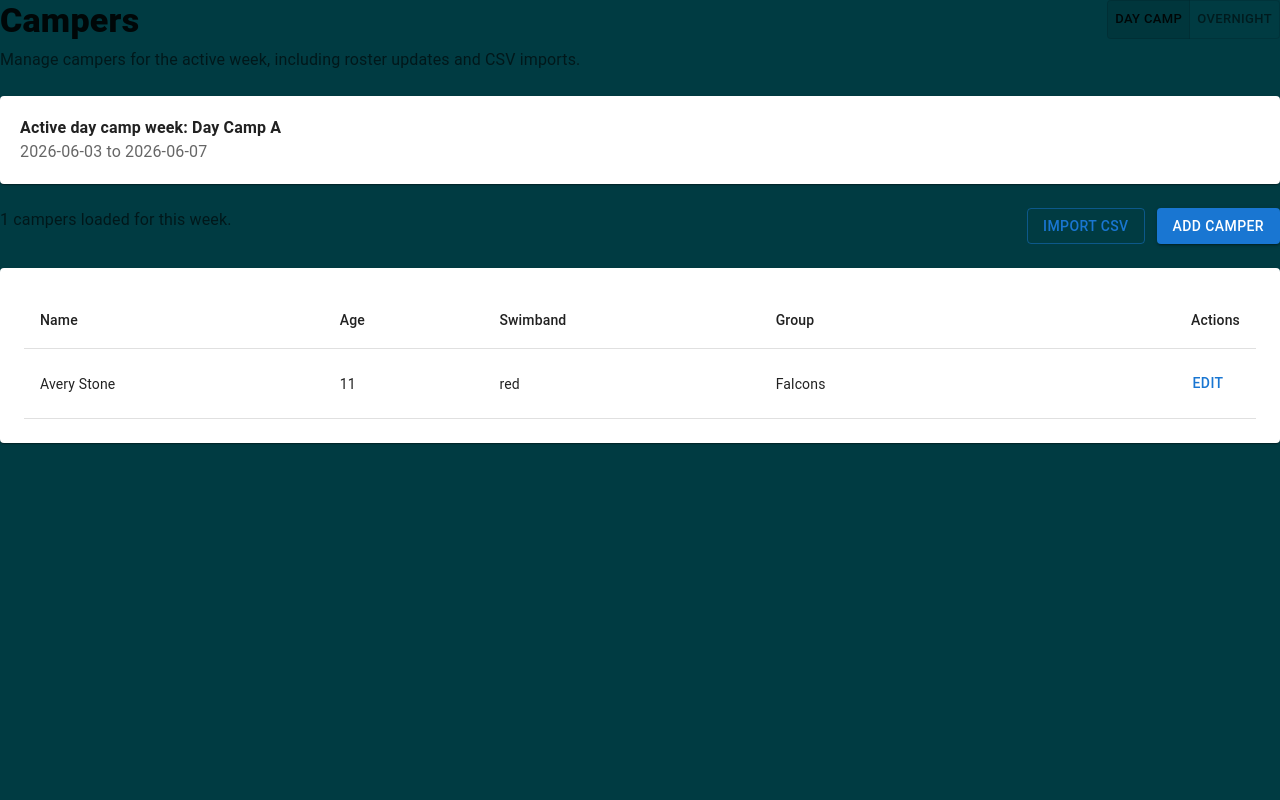
Test: CampersPage › submits the update camper flow
Expected: the text "Avery Stone" is shown, x1=40 y1=376 x2=115 y2=392
Click the button "Edit".
click(1208, 384)  # box x1=1176 y1=366 x2=1240 y2=402
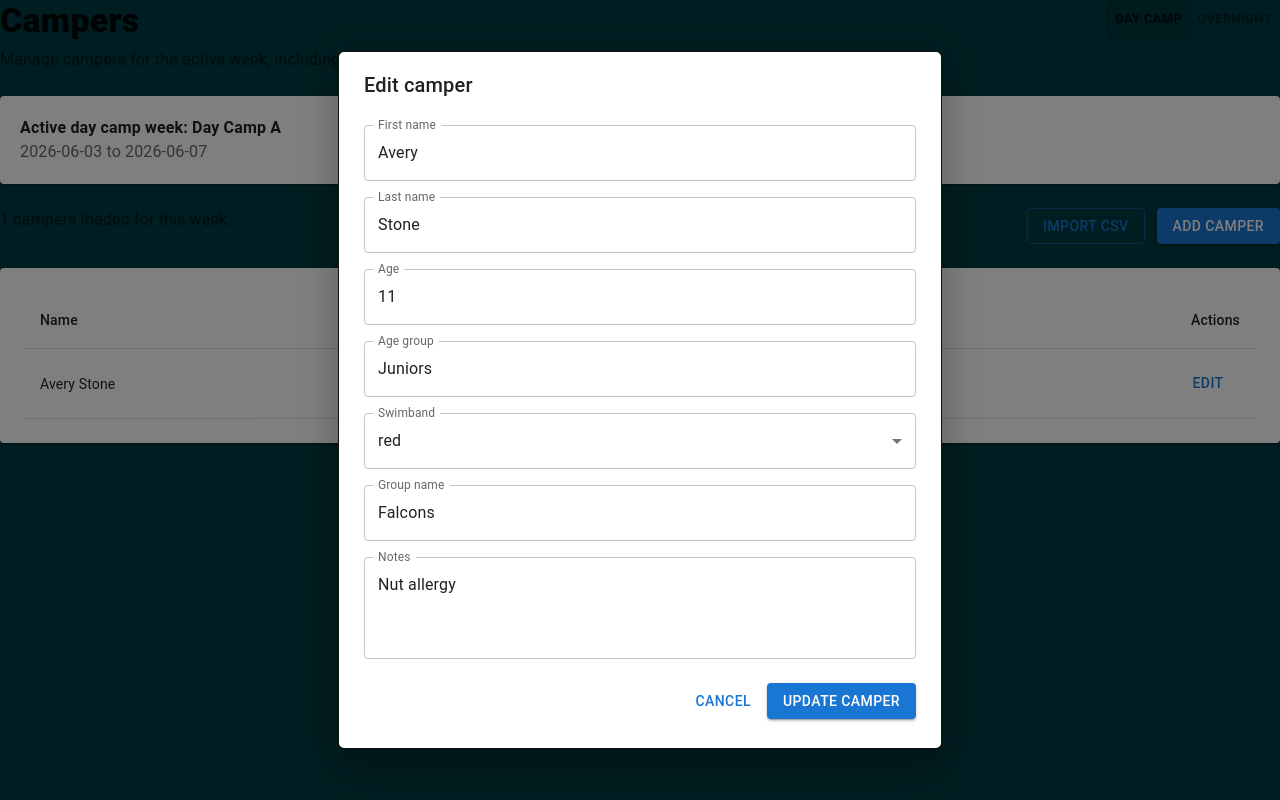
Select "green" in the dropdown labelled "Swimband" at [640, 441], box x1=364 y1=413 x2=916 y2=469
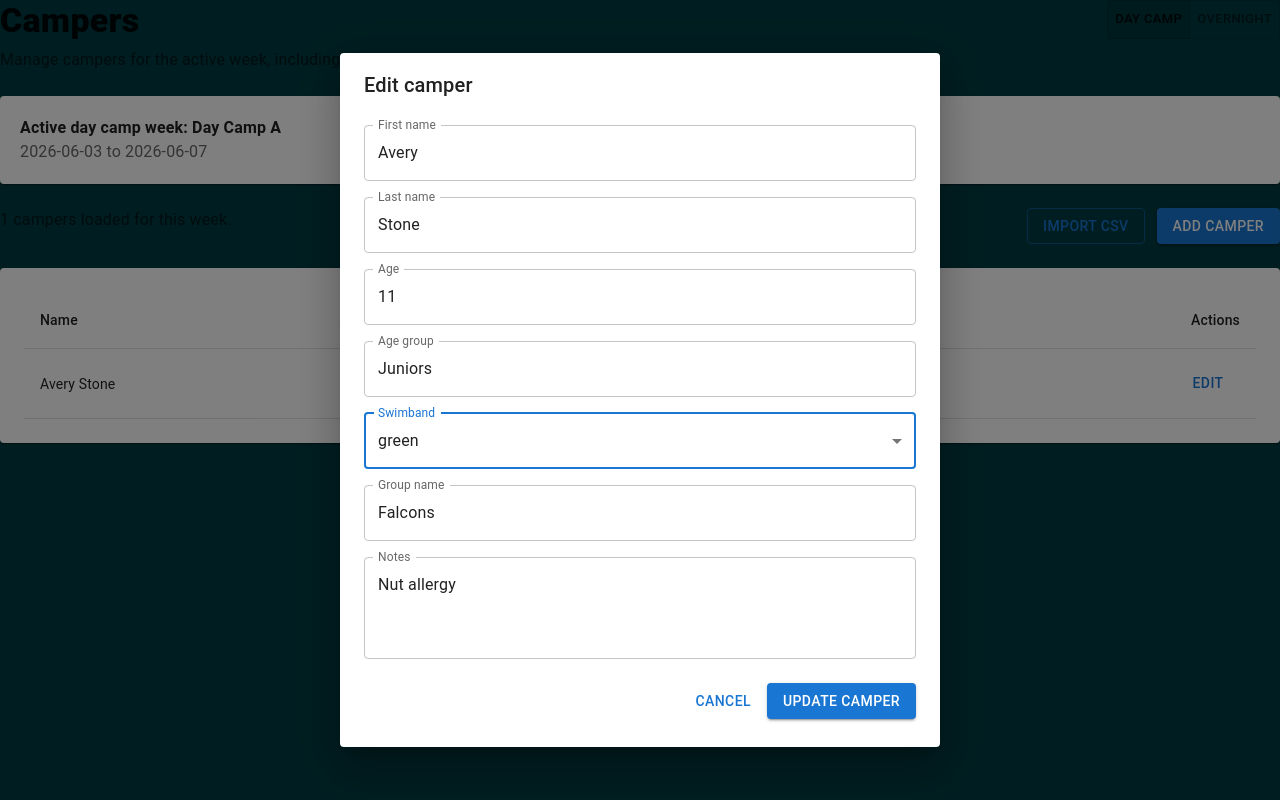
Replace the text in the text box labelled "Notes" with "Needs sunscreen" at [640, 608], box x1=378 y1=573 x2=902 y2=642
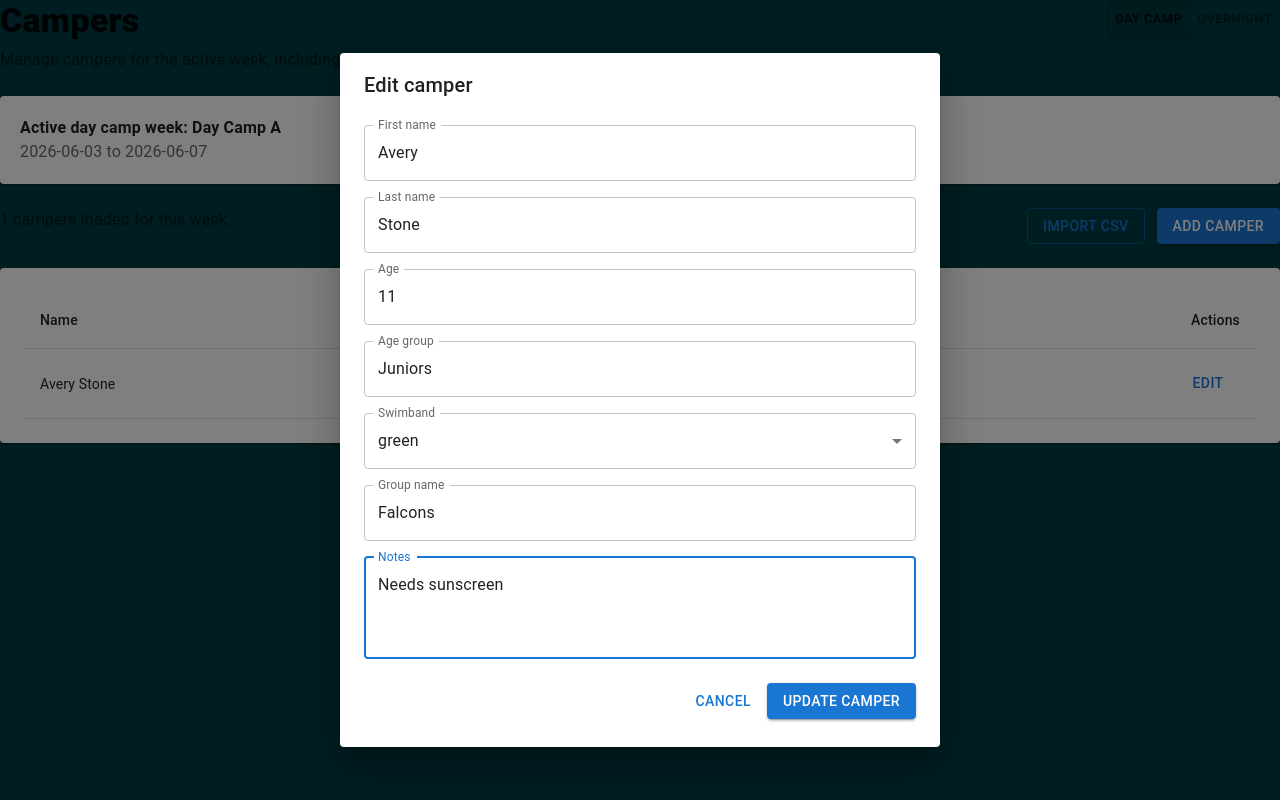
Click the button "Update camper".
click(842, 701)  # box x1=767 y1=683 x2=916 y2=719
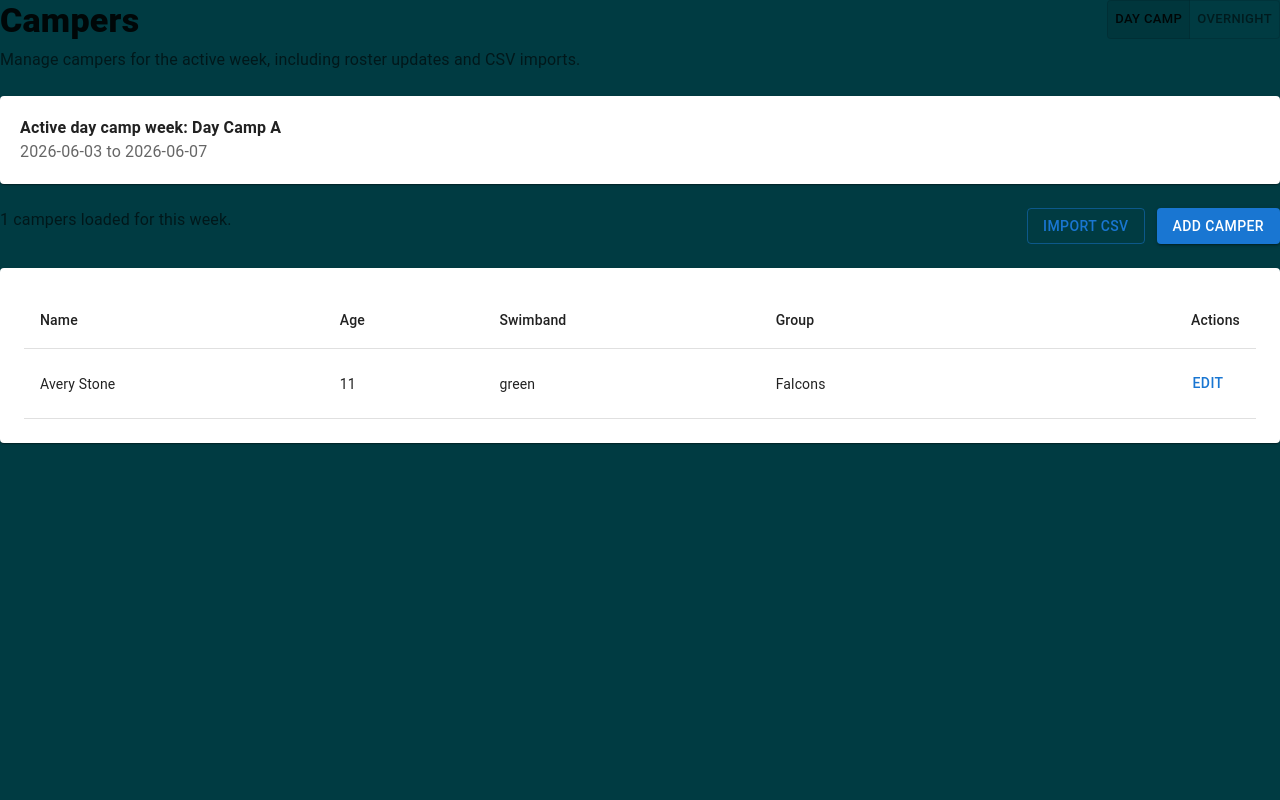
Result: the text "green" is shown at x1=483 y1=349 x2=760 y2=418
